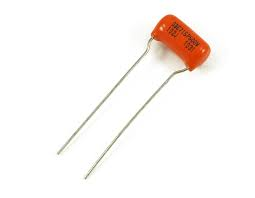ceramic capacitor: (125, 8, 232, 108)
